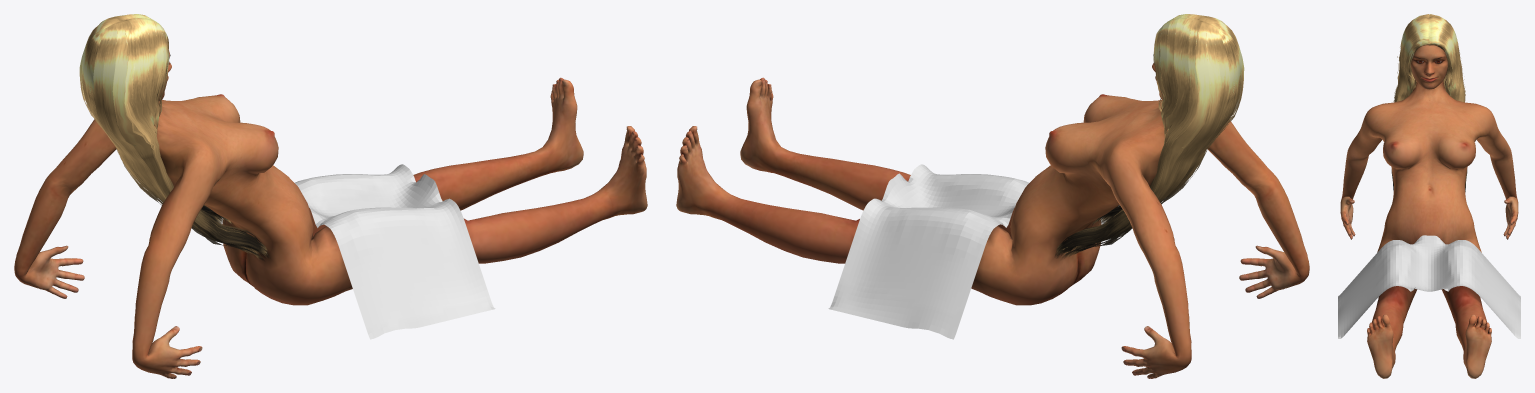
File: kundin_up_h8.glb
3 renders of one model, left to right at view 1: azimuth 30°, elevation 25°; view 2: azimuth 150°, elevation 25°; view 3: azimuth 270°, elevation 25°, orthographic. The views are drawn at different scales.
Parts seen in each view (by area): view 1: body, towel, hair; view 2: body, towel, hair; view 3: body, towel, hair.
Part boxes in pixels (x1,y1,x2,y2): body: [14, 49, 647, 378]; towel: [295, 164, 495, 339]; hair: [79, 14, 269, 260]; body: [676, 63, 1309, 378]; towel: [828, 164, 1028, 339]; hair: [1055, 14, 1244, 258]; body: [1340, 45, 1518, 378]; towel: [1338, 235, 1520, 338]; hair: [1391, 14, 1467, 191].
Bounding box in the file's own units: 1.46 × 0.8242 × 0.62.
5 materials, 5 textured.
